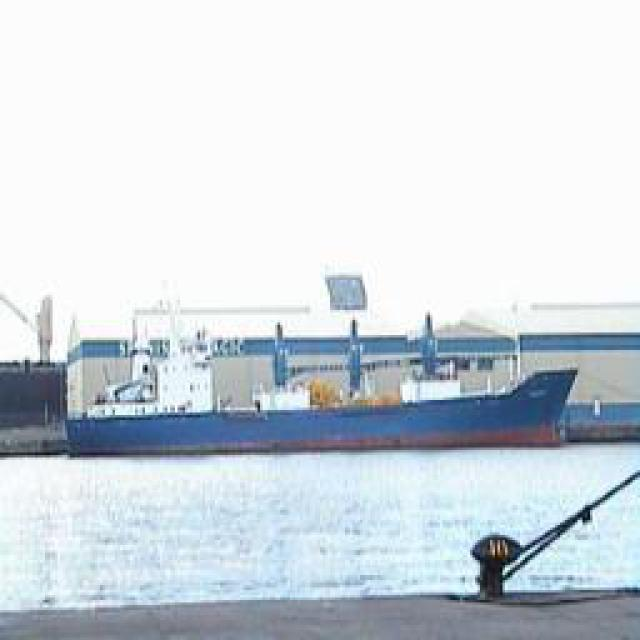Ship: (68, 308, 573, 456)
